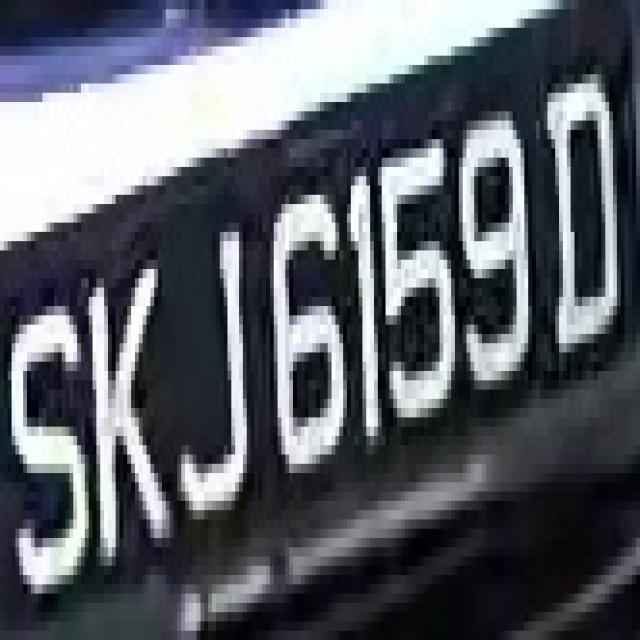1: (336, 120, 394, 492)
5: (374, 139, 463, 464)
6: (266, 148, 343, 492)
9: (447, 111, 536, 408)
D: (548, 46, 628, 352)
J: (162, 204, 258, 529)
K: (77, 241, 177, 612)
S: (4, 278, 89, 622)
